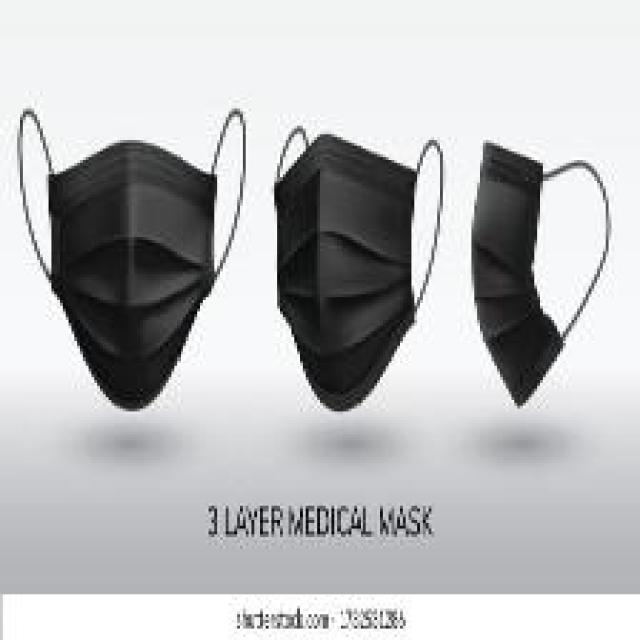Mask: (8, 102, 248, 409), (269, 117, 464, 413), (465, 114, 640, 434)
